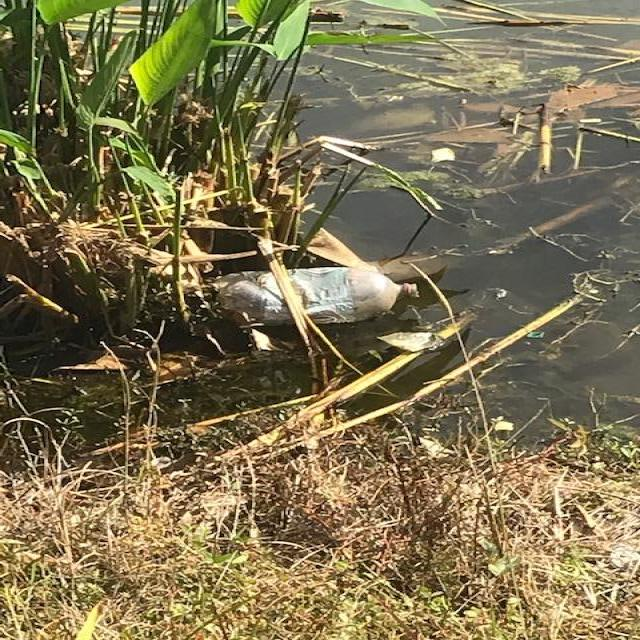litter: (211, 265, 429, 326)
